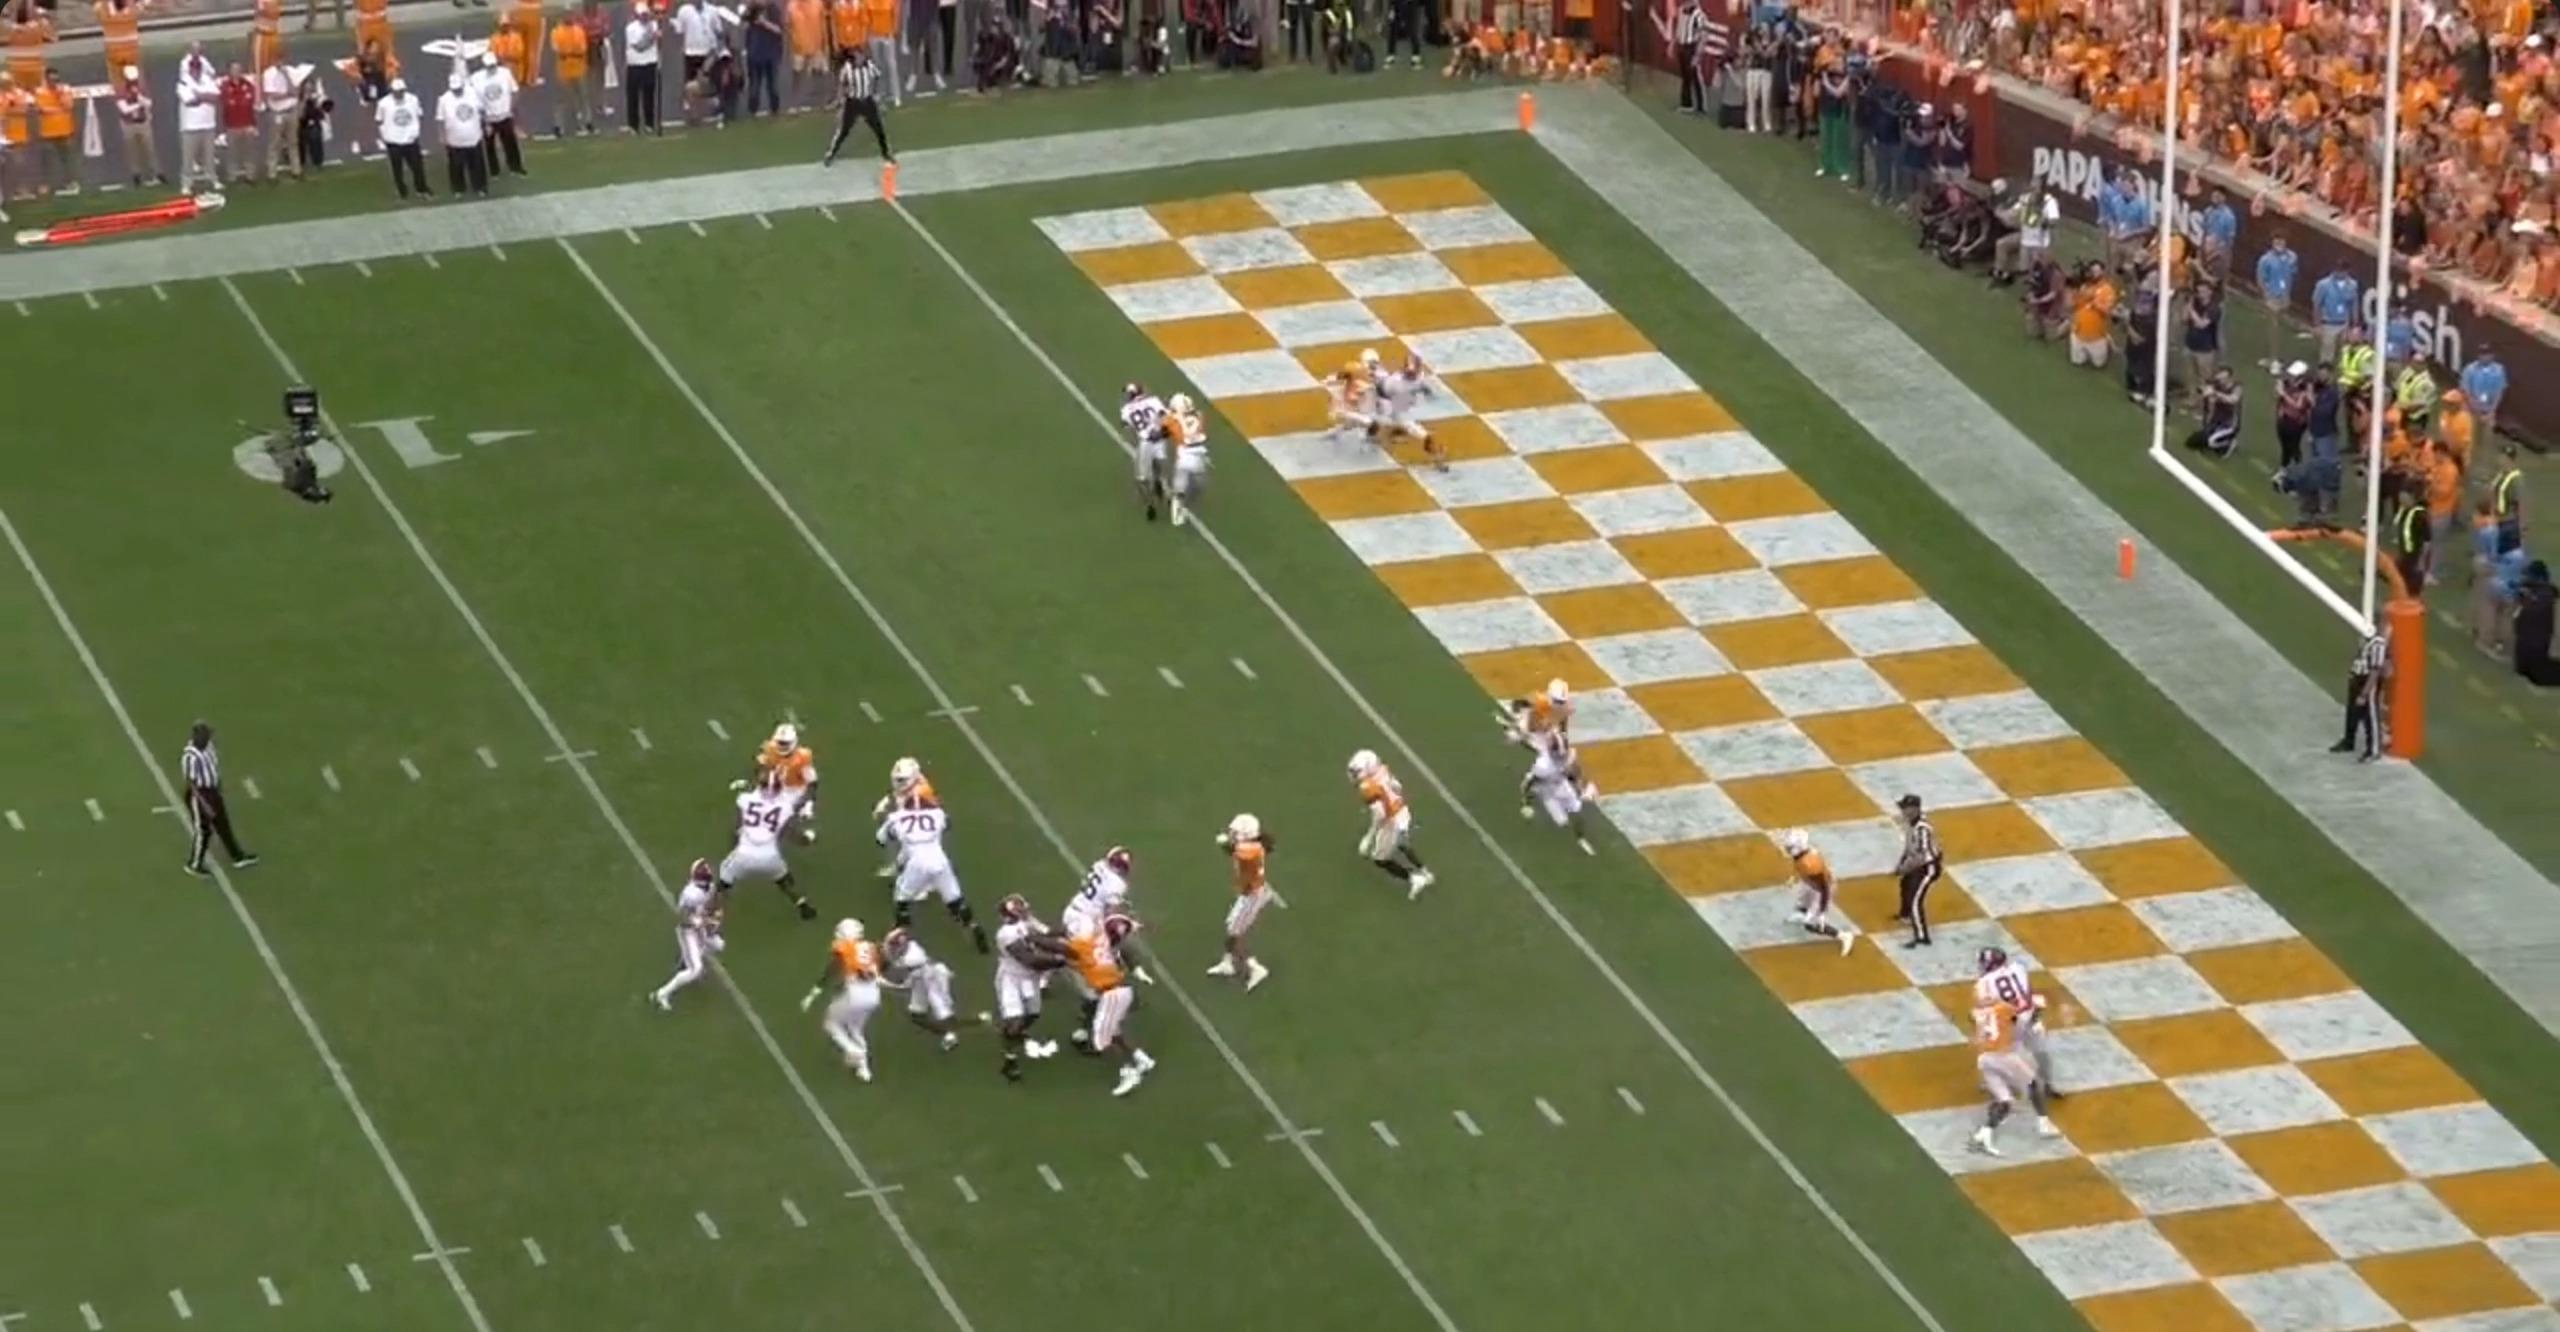player: (1962, 976, 2060, 1186), (696, 768, 815, 927), (977, 889, 1071, 1084), (798, 917, 900, 1091), (1072, 906, 1167, 1092), (885, 788, 990, 948), (1214, 807, 1295, 996), (1337, 750, 1427, 913), (1499, 677, 1583, 850), (653, 855, 738, 1021), (1980, 936, 2067, 1094), (1525, 702, 1607, 862), (881, 924, 972, 1058), (1365, 352, 1458, 481), (1778, 830, 1864, 964), (728, 715, 814, 843), (1140, 383, 1207, 536), (1113, 377, 1175, 531), (1071, 840, 1154, 937), (1322, 345, 1387, 451), (874, 754, 946, 823), (1099, 912, 1158, 989)
ref: (185, 720, 263, 887), (2323, 622, 2396, 774), (824, 44, 909, 174), (1890, 784, 1953, 954)
